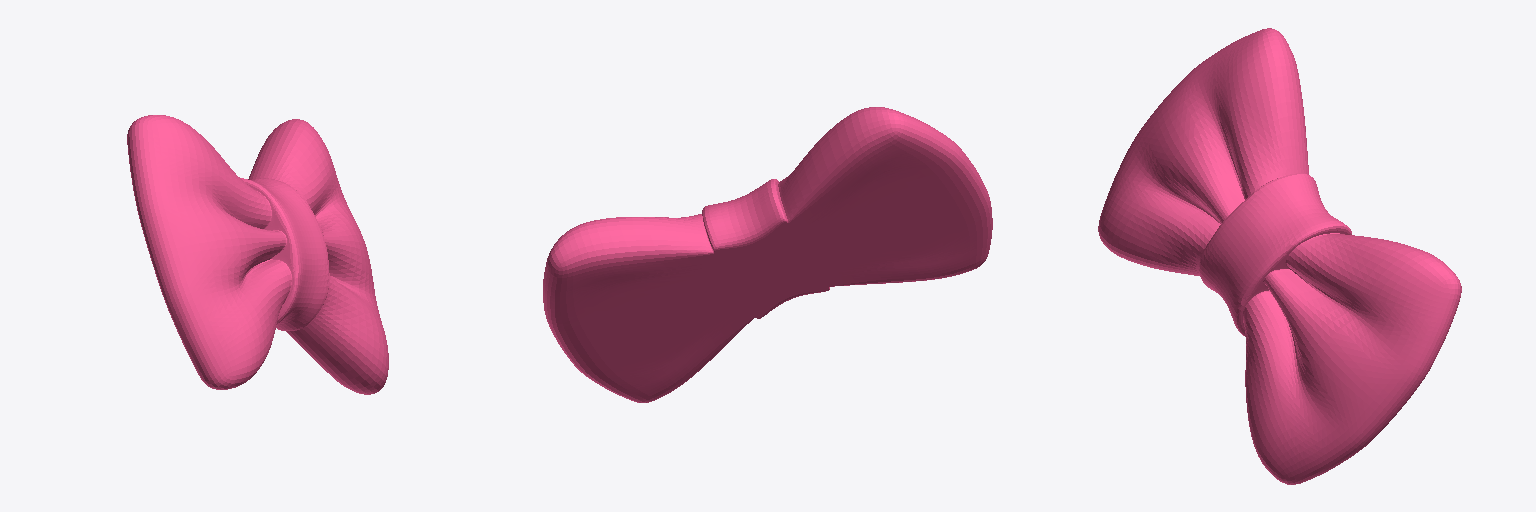
3 views of the same model, side by side, from view 1: azimuth 30°, elevation 25°; view 2: azimuth 150°, elevation 25°; view 3: azimuth 270°, elevation 25° (orthographic).
Visible parts, largest first — view 1: _Bow_v1:_Bow; view 2: _Bow_v1:_Bow; view 3: _Bow_v1:_Bow.
Part boxes in pixels (x1,y1,x2,y2): _Bow_v1:_Bow: (127,115,388,394); _Bow_v1:_Bow: (543,107,992,402); _Bow_v1:_Bow: (1098,28,1461,484).
Bounding box in the file's own units: 1.42 × 1.47 × 1.43.